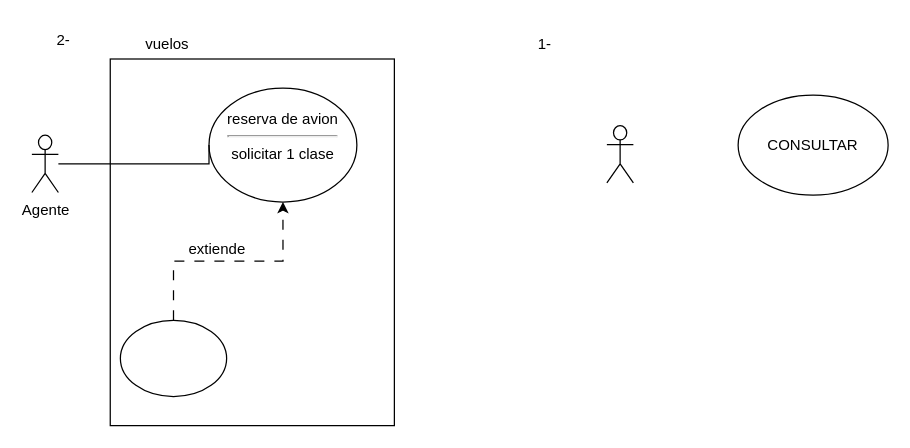
Some shapes in this 910 by 448 pixel diagram are drawn without their labels. The shapes that lost their labels are listed below. From the top down, each one's centre as x and y in pixels, then its label:
point 619,153: DIRECTOR
point 173,357: reserva de primera clase
